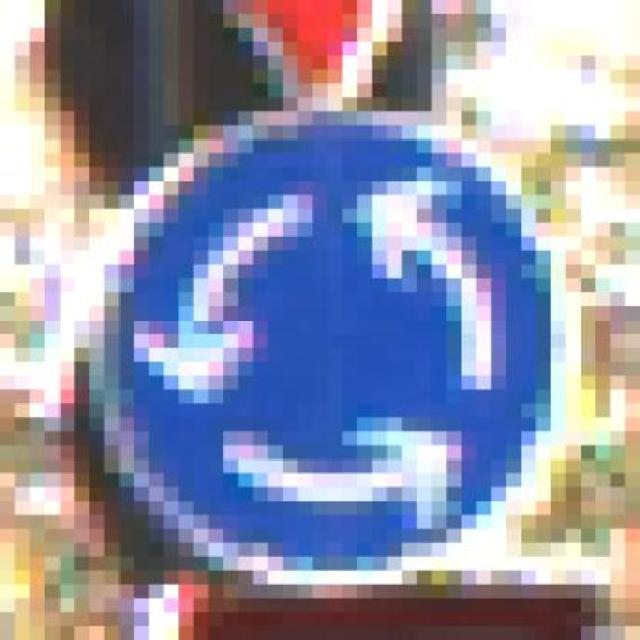Round-About: (45, 111, 610, 598)
